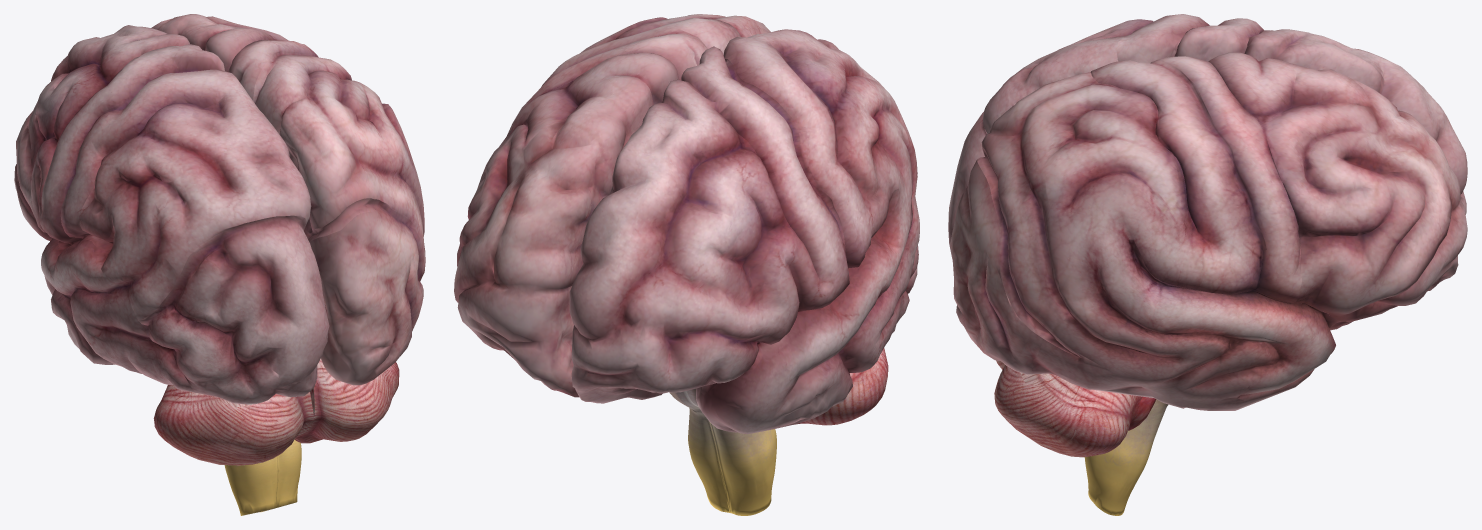
File: brain.glb
The picture shows the model from 3 angles, left to right: view 1: azimuth 30°, elevation 25°; view 2: azimuth 150°, elevation 25°; view 3: azimuth 270°, elevation 25°; orthographic projection. The views are drawn at different scales.
Visible parts, largest first — view 1: Parietal lobe, L#~002131, Occipital lobe, L#~002130, Parietal lobe, R#~002145, Occipital lobe, R#~002144, Temporal lobe, L#~002125, Postcentral gyrus (part of parietal lobe) (primary somatosen (×2), Frontal lobe, L#~002128, Cerebellum, posterior lobe, L#~002197, Precentral gyrus (part of frontal cortex) (primary motor cor, Cerebellum, posterior lobe, R#~002188, Frontal lobe, R#~002142, Parieto-occipital sulcus, L#~002132 (+8 smaller); view 2: Frontal lobe, L#~002128, Frontal lobe, R#~002142, Temporal lobe, L#~002125, Parietal lobe, L#~002131, Postcentral gyrus (part of parietal lobe) (primary somatosen (×2), Precentral gyrus (part of frontal cortex) (primary motor cor, Medulla oblongata, left side#~002179, Precentral gyrus (part of frontal lobe) (primary motor corte, Medulla oblongata, right side#~002178, Cerebellum, posterior lobe, L#~002197, Parietal lobe, R#~002145, Central sulcus (Fissure of Rolando), L#~002127 (+1 smaller); view 3: Frontal lobe, R#~002142, Parietal lobe, R#~002145, Temporal lobe, R#~002138, Postcentral gyrus (part of parietal lobe) (primary somatosen (×2), Precentral gyrus (part of frontal lobe) (primary motor corte, Occipital lobe, R#~002144, Frontal lobe, L#~002128, Cerebellum, posterior lobe, R#~002188, Parietal lobe, L#~002131, Medulla oblongata, right side#~002178, Precentral gyrus (part of frontal cortex) (primary motor cor, Parieto-occipital sulcus, R#~002146 (+4 smaller).
Boxes of the visible parts, box(x1,y1,x2,y2) form: Parietal lobe, L#~002131: box(79, 92, 311, 320); Occipital lobe, L#~002130: box(148, 227, 329, 404); Parietal lobe, R#~002145: box(279, 70, 425, 276); Occipital lobe, R#~002144: box(309, 211, 423, 385); Temporal lobe, L#~002125: box(41, 238, 196, 392); Postcentral gyrus (part of parietal lobe) (primary somatosen (×2): box(60, 55, 351, 237); Frontal lobe, L#~002128: box(14, 25, 189, 240); Cerebellum, posterior lobe, L#~002197: box(153, 394, 304, 465); Precentral gyrus (part of frontal cortex) (primary motor cor: box(39, 44, 224, 242); Cerebellum, posterior lobe, R#~002188: box(307, 362, 399, 441); Frontal lobe, R#~002142: box(151, 14, 288, 71); Parieto-occipital sulcus, L#~002132: box(139, 215, 306, 325); Frontal lobe, L#~002128: box(569, 79, 828, 403); Frontal lobe, R#~002142: box(454, 52, 679, 397); Temporal lobe, L#~002125: box(696, 209, 914, 434); Parietal lobe, L#~002131: box(757, 29, 919, 264); Postcentral gyrus (part of parietal lobe) (primary somatosen (×2): box(541, 18, 872, 268); Precentral gyrus (part of frontal cortex) (primary motor cor: box(681, 46, 849, 307); Medulla oblongata, left side#~002179: box(709, 422, 776, 515); Precentral gyrus (part of frontal lobe) (primary motor corte: box(507, 34, 707, 135); Medulla oblongata, right side#~002178: box(688, 408, 730, 512); Cerebellum, posterior lobe, L#~002197: box(798, 348, 888, 425); Parietal lobe, R#~002145: box(562, 14, 770, 85); Central sulcus (Fissure of Rolando), L#~002127: box(725, 59, 844, 244); Frontal lobe, R#~002142: box(1208, 52, 1467, 330); Parietal lobe, R#~002145: box(981, 72, 1204, 330); Temporal lobe, R#~002138: box(1032, 260, 1335, 410); Postcentral gyrus (part of parietal lobe) (primary somatosen (×2): box(1090, 14, 1262, 335); Precentral gyrus (part of frontal lobe) (primary motor corte: box(1156, 56, 1301, 303); Occipital lobe, R#~002144: box(950, 160, 1044, 374); Frontal lobe, L#~002128: box(1244, 29, 1467, 214); Cerebellum, posterior lobe, R#~002188: box(994, 365, 1140, 457); Parietal lobe, L#~002131: box(982, 19, 1153, 133); Medulla oblongata, right side#~002178: box(1084, 399, 1168, 515); Precentral gyrus (part of frontal cortex) (primary motor cor: box(1175, 18, 1264, 61); Parieto-occipital sulcus, R#~002146: box(977, 147, 1081, 357).
Bounding box in the file's own units: 0.5884 × 0.7738 × 0.7772.
Materials: 4 (4 with a texture image).
